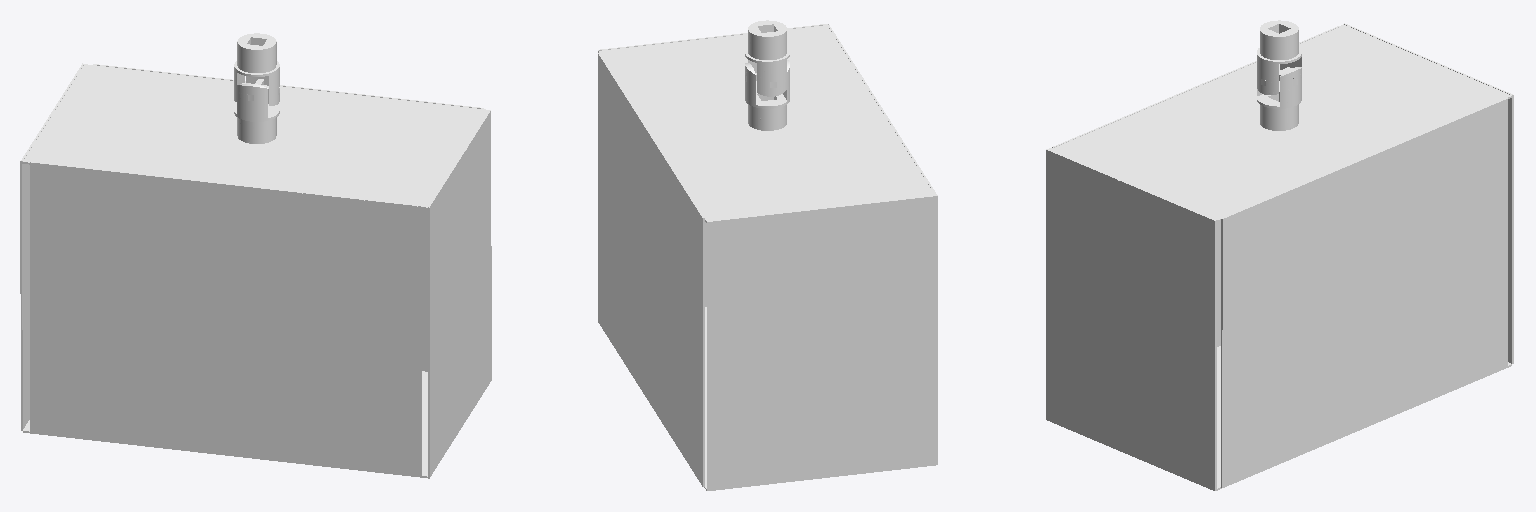
URDF robot description (panda):
<?xml version="1.0" ?>
<!-- =================================================================================== -->
<!-- |    This document was autogenerated by xacro from panda_arm_hand.urdf.xacro      | -->
<!-- |    EDITING THIS FILE BY HAND IS NOT RECOMMENDED                                 | -->
<!-- =================================================================================== -->
<robot name="panda" xmlns:xacro="http://www.ros.org/wiki/xacro">
  <link name="panda_link0">
  	<inertial>
      <origin rpy="0 0 0" xyz="0 0 0.05"/>
       <mass value="2.9"/>
       <inertia ixx="0.1" ixy="0" ixz="0" iyy="0.1" iyz="0" izz="0.1"/>
    </inertial>
    <visual>
      <geometry>
        <mesh filename="meshes/collision/link0.obj"/>
      </geometry>
      <material name="panda_white">
    		<color rgba="1. 1. 1. 1."/>
  		</material>
    </visual>
    <collision>
      <geometry>
        <mesh filename="meshes/collision/link0.obj"/>
      </geometry>
      <material name="panda_white"/>
    </collision>
  </link>
  <link name="panda_link1">
  	<inertial>
      <origin rpy="0 0 0" xyz="0 -0.04 -0.05"/>
       <mass value="2.7"/>
       <inertia ixx="0.1" ixy="0" ixz="0" iyy="0.1" iyz="0" izz="0.1"/>
    </inertial>
    <visual>
      <geometry>
        <mesh filename="meshes/visual/link1.obj"/>
      </geometry>
      <material name="panda_white"/>
    </visual>
    <collision>
      <geometry>
        <mesh filename="meshes/collision/link1.obj"/>
      </geometry>
      <material name="panda_white"/>
    </collision>
  </link>
  <joint name="panda_joint1" type="revolute">
    <safety_controller k_position="100.0" k_velocity="40.0" soft_lower_limit="-2.8973" soft_upper_limit="2.8973"/>
    <origin rpy="0 0 0" xyz="0 0 0.333"/>
    <parent link="panda_link0"/>
    <child link="panda_link1"/>
    <axis xyz="0 0 1"/>
    <limit effort="87" lower="-2.9671" upper="2.9671" velocity="2.1750"/>
  </joint>
  <link name="panda_link2">
  	<inertial>
      <origin rpy="0 0 0" xyz="0 -0.04 0.06"/>
       <mass value="2.73"/>
       <inertia ixx="0.1" ixy="0" ixz="0" iyy="0.1" iyz="0" izz="0.1"/>
    </inertial>
    <visual>
      <geometry>
        <mesh filename="meshes/visual/link2.obj"/>
      </geometry>
      <material name="panda_white"/>
    </visual>
    <collision>
      <geometry>
        <mesh filename="meshes/collision/link2.obj"/>
      </geometry>
      <material name="panda_white"/>
    </collision>
  </link>
  <joint name="panda_joint2" type="revolute">
    <safety_controller k_position="100.0" k_velocity="40.0" soft_lower_limit="-1.7628" soft_upper_limit="1.7628"/>
    <origin rpy="-1.57079632679 0 0" xyz="0 0 0"/>
    <parent link="panda_link1"/>
    <child link="panda_link2"/>
    <axis xyz="0 0 1"/>
    <limit effort="87" lower="-1.8326" upper="1.8326" velocity="2.1750"/>
  </joint>
  <link name="panda_link3">
	  <inertial>
      <origin rpy="0 0 0" xyz="0.01 0.01 -0.05"/>
       <mass value="2.04"/>
       <inertia ixx="0.1" ixy="0" ixz="0" iyy="0.1" iyz="0" izz="0.1"/>
    </inertial>
    <visual>
      <geometry>
        <mesh filename="meshes/visual/link3.obj"/>
      </geometry>
      <material name="panda_red">
    		<color rgba="1. 1. 1. 1."/>
  		</material>
    </visual>
    <collision>
      <geometry>
        <mesh filename="meshes/collision/link3.obj"/>
      </geometry>
    </collision>
  </link>
  <joint name="panda_joint3" type="revolute">
    <safety_controller k_position="100.0" k_velocity="40.0" soft_lower_limit="-2.8973" soft_upper_limit="2.8973"/>
    <origin rpy="1.57079632679 0 0" xyz="0 -0.316 0"/>
    <parent link="panda_link2"/>
    <child link="panda_link3"/>
    <axis xyz="0 0 1"/>
    <limit effort="87" lower="-2.9671" upper="2.9671" velocity="2.1750"/>
  </joint>
  <link name="panda_link4">
  	<inertial>
      <origin rpy="0 0 0" xyz="-0.03 0.03 0.02"/>
       <mass value="2.08"/>
       <inertia ixx="0.1" ixy="0" ixz="0" iyy="0.1" iyz="0" izz="0.1"/>
    </inertial>
    <visual>
      <geometry>
        <mesh filename="meshes/visual/link4.obj"/>
      </geometry>
      <material name="panda_white"/>
    </visual>
    <collision>
      <geometry>
        <mesh filename="meshes/collision/link4.obj"/>
      </geometry>
      <material name="panda_white"/>
    </collision>
  </link>
  <joint name="panda_joint4" type="revolute">
    <safety_controller k_position="100.0" k_velocity="40.0" soft_lower_limit="-3.0718" soft_upper_limit="-0.0698"/>
    <origin rpy="1.57079632679 0 0" xyz="0.0825 0 0"/>
    <parent link="panda_link3"/>
    <child link="panda_link4"/>
    <axis xyz="0 0 1"/>
    <limit effort="87" lower="-3.1416" upper="0.0" velocity="2.1750"/>
  </joint>
  <link name="panda_link5">
  	<inertial>
      <origin rpy="0 0 0" xyz="0 0.04 -0.12"/>
       <mass value="3"/>
       <inertia ixx="0.1" ixy="0" ixz="0" iyy="0.1" iyz="0" izz="0.1"/>
    </inertial>
    <visual>
      <geometry>
        <mesh filename="meshes/visual/link5.obj"/>
      </geometry>
      <material name="panda_white"/>
    </visual>
    <collision>
      <geometry>
        <mesh filename="meshes/collision/link5.obj"/>
      </geometry>
      <material name="panda_white"/>
    </collision>
  </link>
  <joint name="panda_joint5" type="revolute">
    <safety_controller k_position="100.0" k_velocity="40.0" soft_lower_limit="-2.8973" soft_upper_limit="2.8973"/>
    <origin rpy="-1.57079632679 0 0" xyz="-0.0825 0.384 0"/>
    <parent link="panda_link4"/>
    <child link="panda_link5"/>
    <axis xyz="0 0 1"/>
    <limit effort="12" lower="-2.9671" upper="2.9671" velocity="2.6100"/>
  </joint>
  <link name="panda_link6">
  	<inertial>
      <origin rpy="0 0 0" xyz="0.04 0 0"/>
       <mass value="1.3"/>
       <inertia ixx="0.1" ixy="0" ixz="0" iyy="0.1" iyz="0" izz="0.1"/>
    </inertial>
    <visual>
      <geometry>
        <mesh filename="meshes/visual/link6.obj"/>
      </geometry>
      <material name="panda_white"/>
    </visual>
    <collision>
      <geometry>
        <mesh filename="meshes/collision/link6.obj"/>
      </geometry>
      <material name="panda_white"/>
    </collision>
  </link>
  <joint name="panda_joint6" type="revolute">
    <safety_controller k_position="100.0" k_velocity="40.0" soft_lower_limit="-0.0175" soft_upper_limit="3.7525"/>
    <origin rpy="1.57079632679 0 0" xyz="0 0 0"/>
    <parent link="panda_link5"/>
    <child link="panda_link6"/>
    <axis xyz="0 0 1"/>
    <limit effort="12" lower="-0.0873" upper="3.8223" velocity="2.6100"/>
  </joint>
  <link name="panda_link7">
  	<inertial>
      <origin rpy="0 0 0" xyz="0 0 0.08"/>
       <mass value=".2"/>
       <inertia ixx="0.1" ixy="0" ixz="0" iyy="0.1" iyz="0" izz="0.1"/>
    </inertial>
    <visual>
      <geometry>
        <mesh filename="meshes/collision/link7.obj"/>
      </geometry>
      <material name="panda_white"/>
    </visual>
    <collision>
      <geometry>
        <mesh filename="meshes/collision/link7.obj"/>
      </geometry>
      <material name="panda_white"/>
    </collision>
  </link>
  <joint name="panda_joint7" type="revolute">
    <safety_controller k_position="100.0" k_velocity="40.0" soft_lower_limit="-2.8973" soft_upper_limit="2.8973"/>
    <origin rpy="1.57079632679 0 0" xyz="0.088 0 0"/>
    <parent link="panda_link6"/>
    <child link="panda_link7"/>
    <axis xyz="0 0 1"/>
    <limit effort="12" lower="-2.9671" upper="2.9671" velocity="2.6100"/>
  </joint>
  <link name="panda_link8">
  	 <inertial>
      <origin rpy="0 0 0" xyz="0 0 0"/>
       <mass value="0.0"/>
       <inertia ixx="0.1" ixy="0" ixz="0" iyy="0.1" iyz="0" izz="0.1"/>
    </inertial>
  </link>
  <joint name="panda_joint8" type="fixed">
    <origin rpy="0 0 0" xyz="0 0 0.107"/>
    <parent link="panda_link7"/>
    <child link="panda_link8"/>
    <axis xyz="0 0 0"/>
  </joint>
  <joint name="panda_universal_joint_top_joint" type="fixed">
    <parent link="panda_link8"/>
    <child link="universal_joint_top"/>
    <origin rpy="1.5707 0 0.785398163397" xyz="0 0 0.0"/>
  </joint>
  <link name="universal_joint_top">
    <inertial>
      <origin rpy="1.5707 0 0.785398163397" xyz="0 0 0.0"/>
      <mass value=".1"/>
      <inertia ixx="0.05" ixy="0" ixz="0" iyy="0.05" iyz="0" izz="0.05"/>
    </inertial>
    <visual>
      <origin rpy="0 0 0" xyz="0 0 0"/>
      <geometry>
        <mesh filename="meshes/visual/universal_joint.obj" />
      </geometry>
      <material name="white">
        <color rgba="1 1 1 1"/>
      </material>
    </visual>
  </link>
  <joint name="universal_joint_top_universal_joint_cross_joint" type="continuous">
    <parent link="universal_joint_top"/>
    <child link="universal_joint_cross"/>
    <origin rpy="1.5707 0 1.5707" xyz="0.0 0.04 0.0"/>
  </joint>
  <link name="universal_joint_cross">
    <inertial>
      <origin rpy="0 0 0" xyz="0 0 0"/>
      <mass value=".1"/>
      <inertia ixx="0.05" ixy="0" ixz="0" iyy="0.05" iyz="0" izz="0.05"/>
    </inertial>
    <visual>
      <origin rpy="0 0 0" xyz="0 0 0"/>
      <geometry>
        <mesh filename="meshes/visual/universal_joint_cross.obj" />
      </geometry>
      <material name="white">
        <color rgba="1 1 1 1"/>
      </material>
    </visual>
  </link>
  <joint name="universal_joint_cross_universal_joint_bottom_joint" type="continuous">
    <parent link="universal_joint_cross"/>
    <child link="universal_joint_bottom"/>
    <origin rpy="1.5707 0 0" xyz="0.0 0.0 0.0"/>
  </joint>
  <link name="universal_joint_bottom">
    <inertial>
      <origin rpy="0 1.5707 1.5707" xyz="0.04 0 0"/>
      <mass value=".1"/>
      <inertia ixx="0.05" ixy="0" ixz="0" iyy="0.05" iyz="0" izz="0.05"/>
    </inertial>
    <visual>
      <origin rpy="0 1.5707 1.5707" xyz="0.04 0 0"/>
      <geometry>
        <mesh filename="meshes/visual/universal_joint.obj" />
      </geometry>
      <material name="white">
        <color rgba="1 1 1 1"/>
      </material>
    </visual>
  </link>
  <joint name="universal_joint_bottom_clear_box_top_joint" type="fixed">
    <parent link="universal_joint_bottom"/>
    <child link="clear_box_top"/>
    <origin rpy="0 1.5707 0" xyz="0.04 0.0 0.0"/>
  </joint>
  <link name="clear_box_top">
    <inertial>
      <origin rpy="0 0 0" xyz="0 0 0"/>
      <mass value=".1"/>
      <inertia ixx="0.05" ixy="0" ixz="0" iyy="0.05" iyz="0" izz="0.05"/>
    </inertial>
    <visual>
      <origin rpy="0 0 0" xyz="0 0 0"/>
      <geometry>
        <mesh filename="meshes/visual/clear_box_top.obj" />
      </geometry>
      <material name="white">
        <color rgba="1 1 1 1"/>
      </material>
    </visual>
  </link>
  <joint name="clear_box_top_clear_box_bottom_joint" type="fixed">
    <parent link="clear_box_top"/>
    <child link="clear_box_bottom"/>
    <origin rpy="0 0 0" xyz="0 0 0.228"/>
  </joint>
  <link name="clear_box_bottom">
    <inertial>
      <origin rpy="0 0 0" xyz="0 0 0"/>
      <mass value=".1"/>
      <inertia ixx="0.05" ixy="0" ixz="0" iyy="0.05" iyz="0" izz="0.05"/>
    </inertial>
    <visual>
      <origin rpy="0 0 0" xyz="0 0 0"/>
      <geometry>
        <mesh filename="meshes/visual/clear_box_top.obj" />
      </geometry>
      <material name="white">
        <color rgba="1 1 1 1"/>
      </material>
    </visual>
  </link>
  <joint name="clear_box_top_clear_box_front_joint" type="fixed">
    <parent link="clear_box_top"/>
    <child link="clear_box_front"/>
    <origin rpy="1.5707 0 0" xyz="0 0.161925 0.114"/>
  </joint>
  <link name="clear_box_front">
    <inertial>
      <origin rpy="0 0 0" xyz="0 0 0"/>
      <mass value=".1"/>
      <inertia ixx="0.05" ixy="0" ixz="0" iyy="0.05" iyz="0" izz="0.05"/>
    </inertial>
    <visual>
      <origin rpy="0 0 0" xyz="0 0 0"/>
      <geometry>
        <mesh filename="meshes/visual/clear_box_front.obj" />
      </geometry>
      <material name="white">
        <color rgba="1 1 1 1"/>
      </material>
    </visual>
  </link>
  <joint name="clear_box_top_clear_box_back_joint" type="fixed">
    <parent link="clear_box_top"/>
    <child link="clear_box_back"/>
    <origin rpy="1.5707 0 0" xyz="0 -0.161925 0.114"/>
  </joint>
  <link name="clear_box_back">
    <inertial>
      <origin rpy="0 0 0" xyz="0 0 0"/>
      <mass value=".1"/>
      <inertia ixx="0.05" ixy="0" ixz="0" iyy="0.05" iyz="0" izz="0.05"/>
    </inertial>
    <visual>
      <origin rpy="0 0 0" xyz="0 0 0"/>
      <geometry>
        <mesh filename="meshes/visual/clear_box_front.obj" />
      </geometry>
      <material name="white">
        <color rgba="1 1 1 1"/>
      </material>
    </visual>
  </link>
  <joint name="clear_box_top_clear_box_left_joint" type="fixed">
    <parent link="clear_box_top"/>
    <child link="clear_box_left"/>
    <origin rpy="1.5707 0 1.5707" xyz="0.092075 0 0.114"/>
  </joint>
  <link name="clear_box_left">
    <inertial>
      <origin rpy="0 0 0" xyz="0 0 0"/>
      <mass value=".1"/>
      <inertia ixx="0.05" ixy="0" ixz="0" iyy="0.05" iyz="0" izz="0.05"/>
    </inertial>
    <visual>
      <origin rpy="0 0 0" xyz="0 0 0"/>
      <geometry>
        <mesh filename="meshes/visual/clear_box_side.obj" />
      </geometry>
      <material name="white">
        <color rgba="1 1 1 1"/>
      </material>
    </visual>
  </link>
  <joint name="clear_box_top_clear_box_right_joint" type="fixed">
    <parent link="clear_box_top"/>
    <child link="clear_box_right"/>
    <origin rpy="1.5707 0 1.5707" xyz="-0.092075 0 0.114"/>
  </joint>
  <link name="clear_box_right">
    <inertial>
      <origin rpy="0 0 0" xyz="0 0 0"/>
      <mass value=".1"/>
      <inertia ixx="0.05" ixy="0" ixz="0" iyy="0.05" iyz="0" izz="0.05"/>
    </inertial>
    <visual>
      <origin rpy="0 0 0" xyz="0 0 0"/>
      <geometry>
        <mesh filename="meshes/visual/clear_box_side.obj" />
      </geometry>
      <material name="white">
        <color rgba="1 1 1 1"/>
      </material>
    </visual>
  </link>
</robot>

--- What the picture shows (computed from the rendered views, not written in the file) ---
The picture shows the robot from 3 angles, left to right: view 1: azimuth 30°, elevation 25°; view 2: azimuth 150°, elevation 25°; view 3: azimuth 270°, elevation 25°; orthographic projection.
Robot: panda — 18 links, 17 joints (7 revolute, 2 continuous, 8 fixed); root link panda_link0; default pose: all joints at 0.
Visible links, largest first — view 1: clear_box_right, clear_box_top, clear_box_front, clear_box_back, universal_joint_bottom, universal_joint_top, clear_box_left, clear_box_bottom; view 2: clear_box_back, clear_box_top, clear_box_left, universal_joint_top, universal_joint_bottom; view 3: clear_box_left, clear_box_front, clear_box_top, universal_joint_top, universal_joint_bottom, clear_box_back, clear_box_bottom, clear_box_right.
Boxes of the visible links, left/top/right/bottom form: clear_box_right: left=30, top=162, right=421, bottom=475; clear_box_top: left=22, top=64, right=490, bottom=209; clear_box_front: left=428, top=110, right=491, bottom=476; clear_box_back: left=20, top=63, right=83, bottom=430; universal_joint_bottom: left=234, top=76, right=279, bottom=143; universal_joint_top: left=234, top=33, right=279, bottom=105; clear_box_left: left=93, top=64, right=483, bottom=371; clear_box_bottom: left=23, top=371, right=491, bottom=478; clear_box_back: left=707, top=195, right=937, bottom=490; clear_box_top: left=598, top=25, right=936, bottom=222; clear_box_left: left=598, top=53, right=704, bottom=486; universal_joint_top: left=745, top=20, right=789, bottom=96; universal_joint_bottom: left=745, top=60, right=789, bottom=130; clear_box_left: left=1221, top=98, right=1507, bottom=487; clear_box_front: left=1046, top=149, right=1216, bottom=489; clear_box_top: left=1046, top=24, right=1511, bottom=222; universal_joint_top: left=1257, top=20, right=1301, bottom=94; universal_joint_bottom: left=1257, top=67, right=1301, bottom=130; clear_box_back: left=1344, top=23, right=1513, bottom=363; clear_box_bottom: left=1046, top=346, right=1511, bottom=490; clear_box_right: left=1052, top=26, right=1338, bottom=346.
Bounding box of the posed robot: 0.3604 × 0.3604 × 0.3096 m (x, y, z).
9 mesh visuals loaded from 13 distinct referenced files (5 OBJ); not drawn: 8 (reference not matched to a file when rendering).